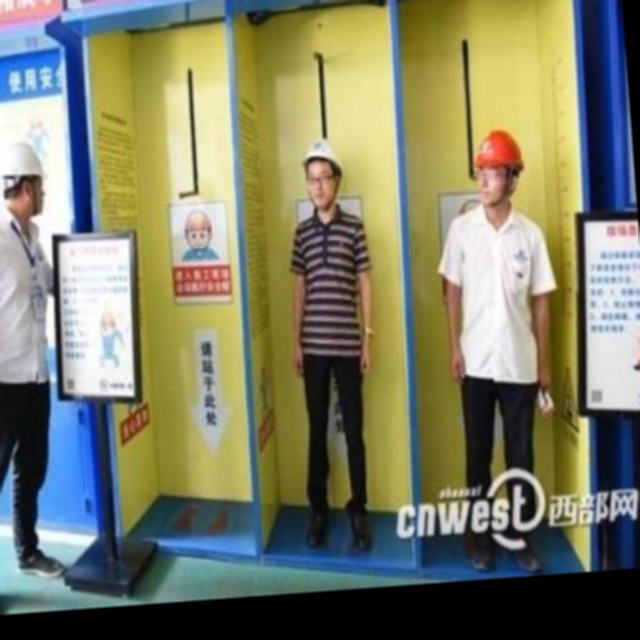Con_Casco: (469, 131, 529, 211), (300, 143, 343, 210)
